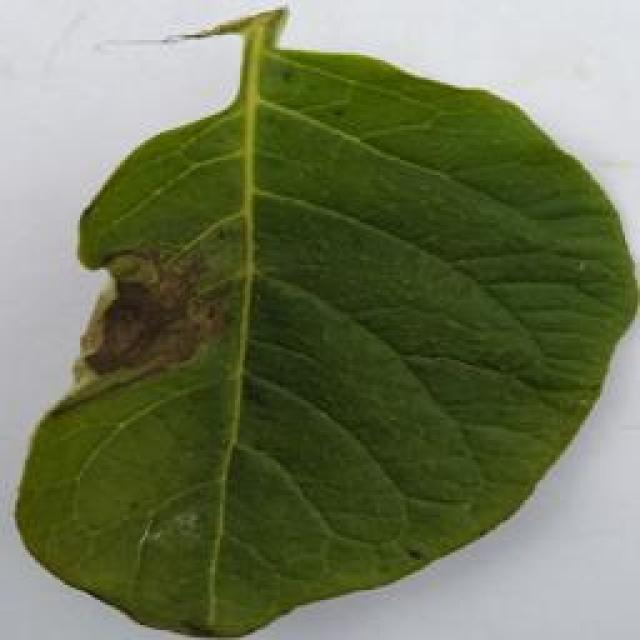Potato_Late_Blight: (16, 8, 623, 634)
